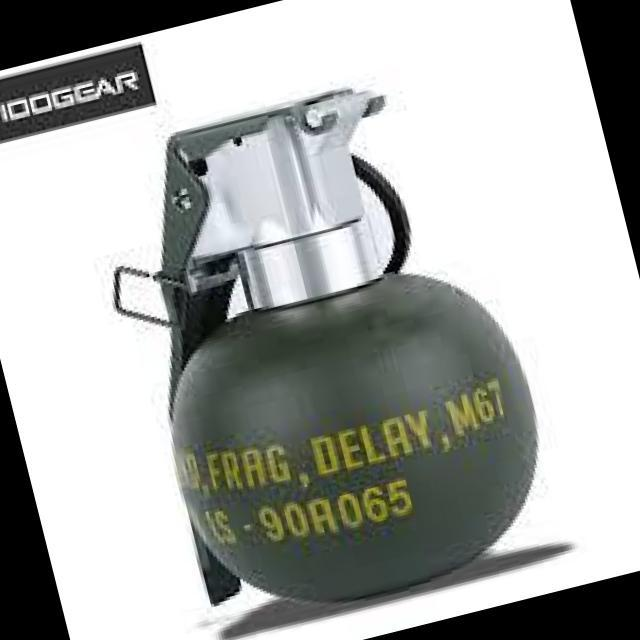grenade: (71, 46, 574, 640)
